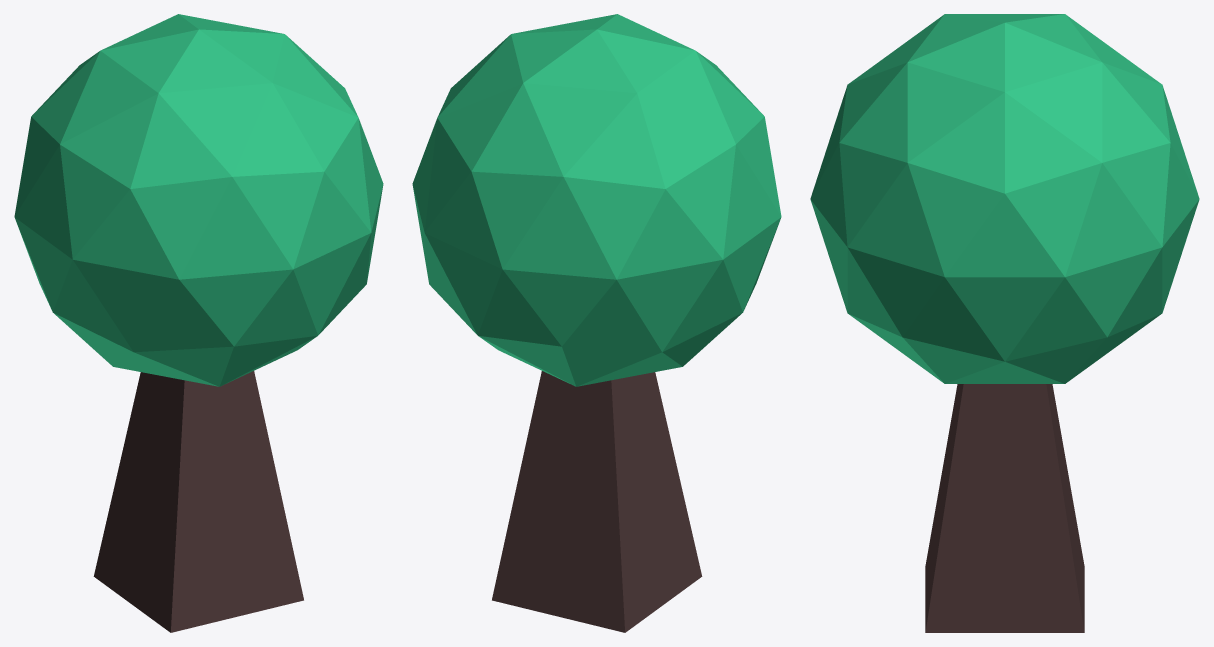
The model's file is ArbolTipo3.1.fbx.
The picture shows the model from 3 angles, left to right: view 1: azimuth 30°, elevation 25°; view 2: azimuth 150°, elevation 25°; view 3: azimuth 270°, elevation 25°; orthographic projection. The views are drawn at different scales.
Parts seen in each view (by area): view 1: Icosphere, Cube; view 2: Icosphere, Cube; view 3: Icosphere, Cube.
Part boxes in pixels (<box>): Icosphere: <box>14,14,383,386</box>; Cube: <box>93,371,303,632</box>; Icosphere: <box>412,14,781,386</box>; Cube: <box>492,371,702,632</box>; Icosphere: <box>810,14,1199,383</box>; Cube: <box>925,384,1084,632</box>.
Bounding box in the file's own units: 289 × 496 × 304.
